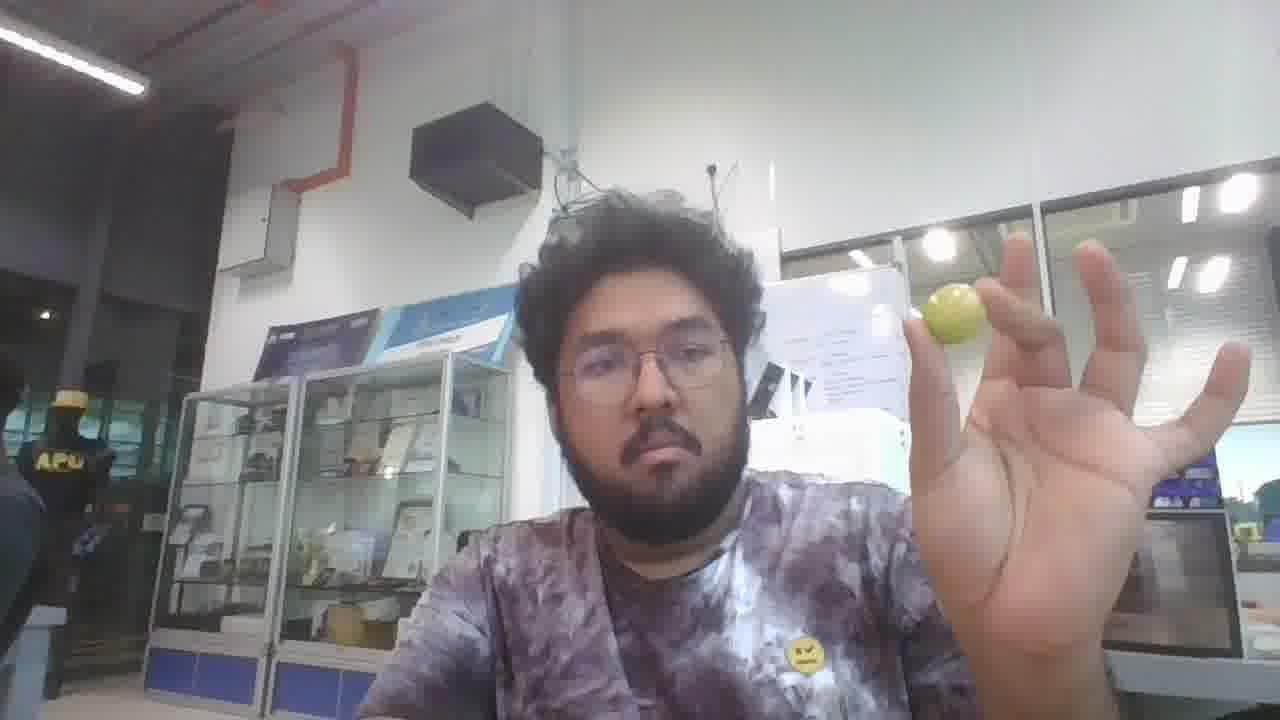green_cherry_tomato: (920, 283, 984, 344)
